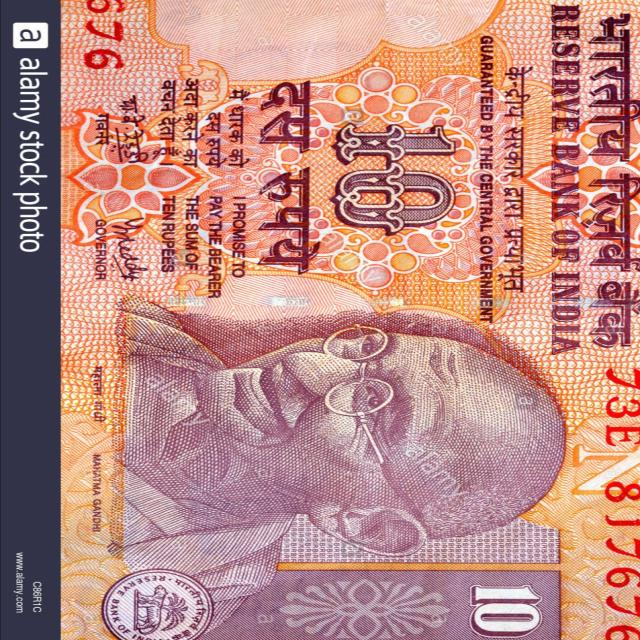10IndianRupees: (63, 0, 640, 640)
